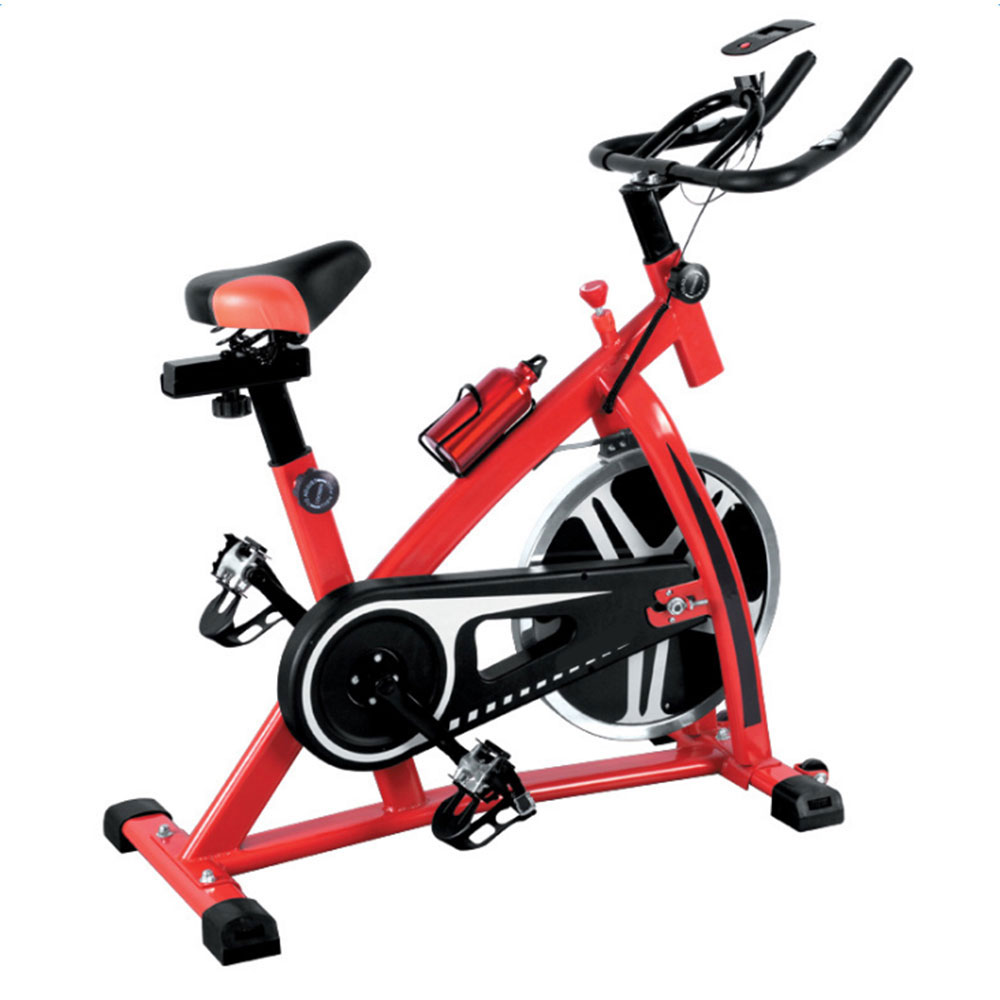gym_bike: (97, 48, 933, 979)
